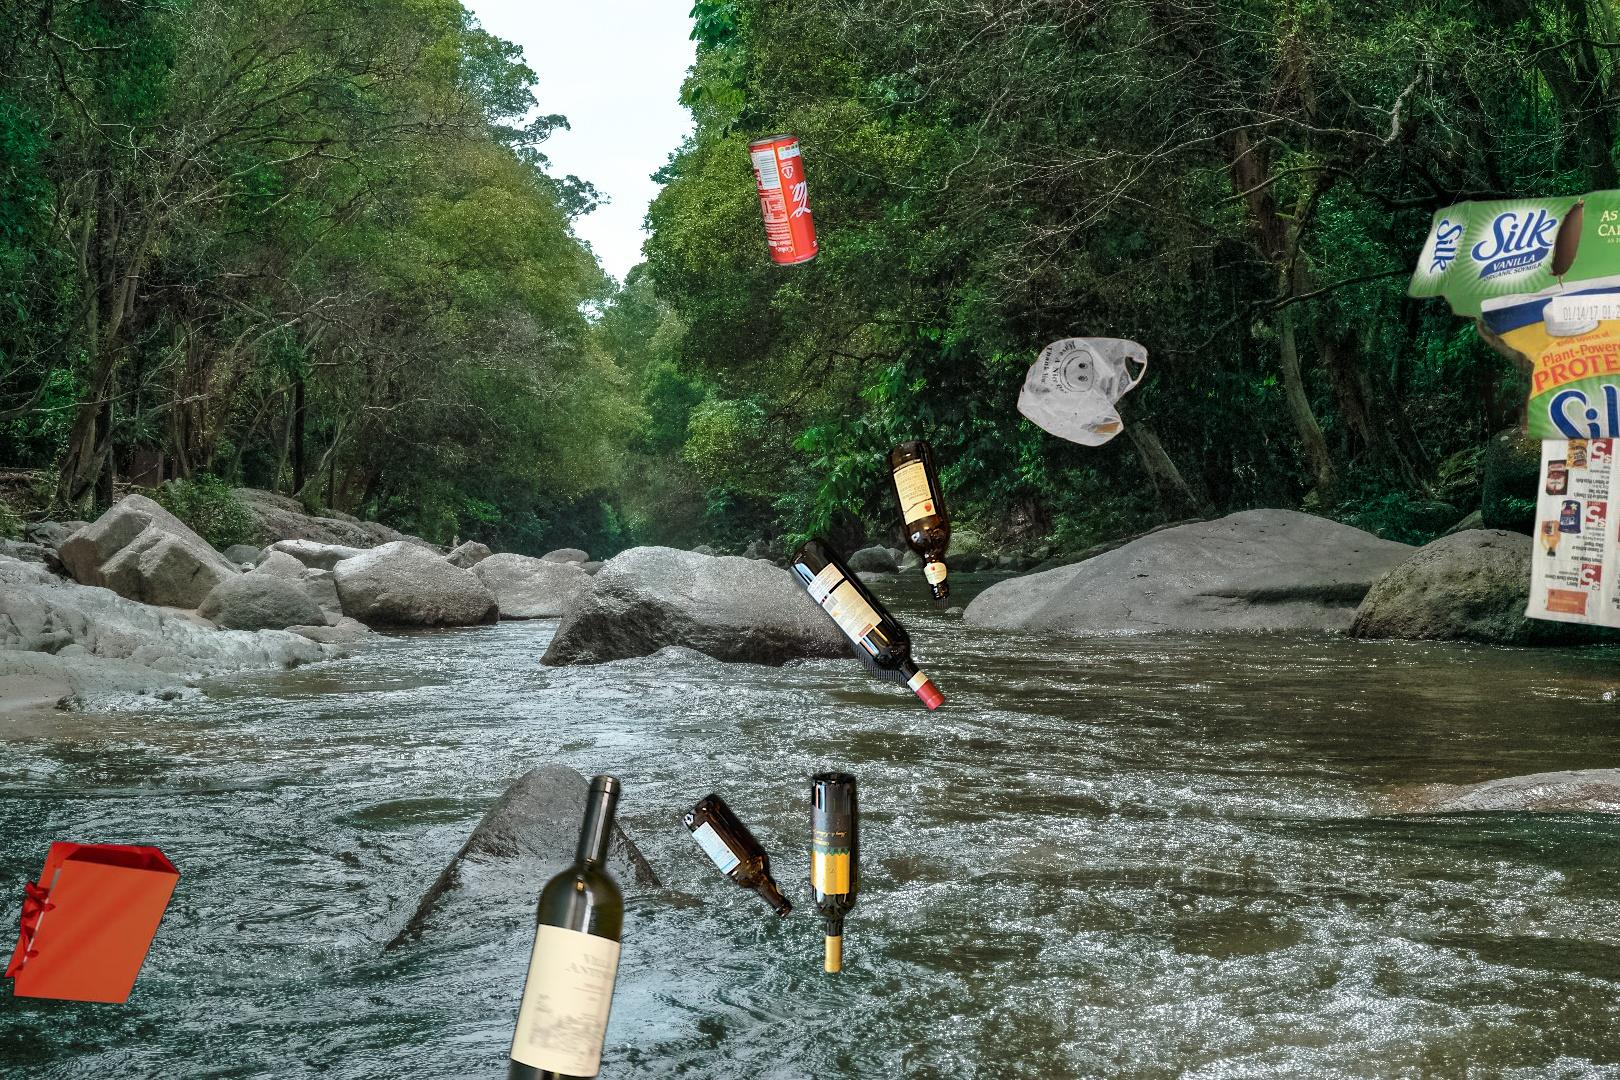glass: (677, 432, 956, 979), (485, 767, 630, 1080)
metal-cans: (742, 127, 824, 271)
paper: (1519, 288, 1620, 659)
paper-bag: (0, 838, 184, 1006)
plastic-bag: (1015, 335, 1151, 450)
trashbox-cardboard: (1379, 174, 1620, 557)
